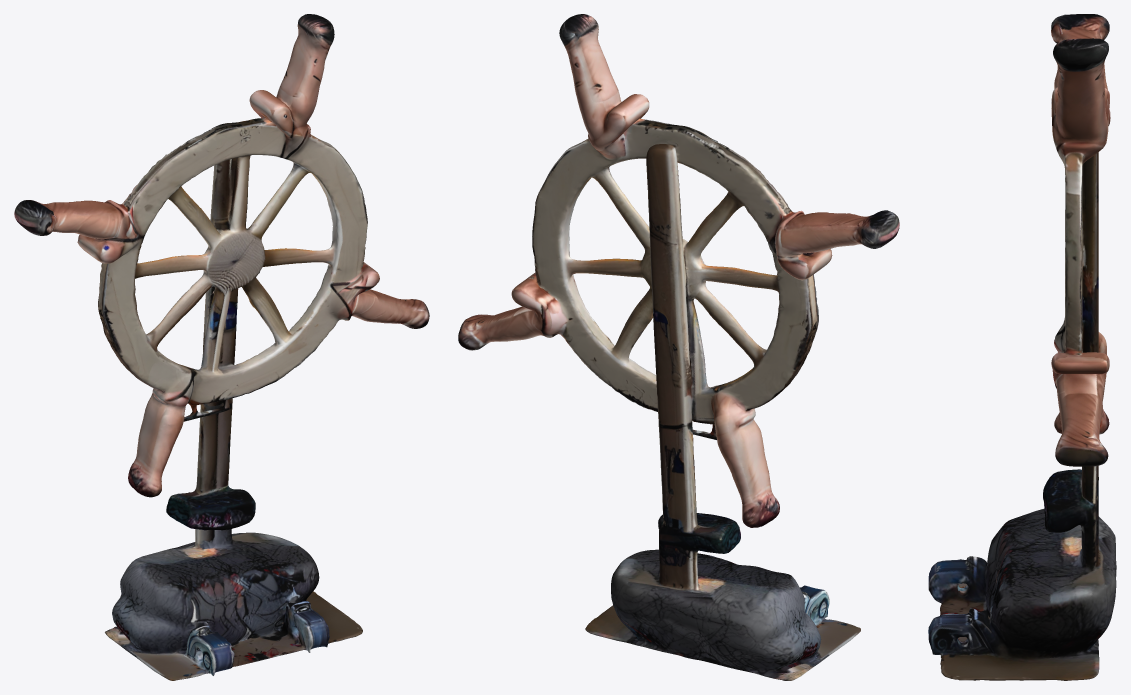
3 views of the same model, side by side, from view 1: azimuth 30°, elevation 25°; view 2: azimuth 150°, elevation 25°; view 3: azimuth 270°, elevation 25° (orthographic). The views are drawn at different scales.
Parts seen in each view (by area): view 1: geometry_0; view 2: geometry_0; view 3: geometry_0.
Boxes of the visible parts, x1,y1,x2,y2 form: geometry_0: [14, 14, 429, 680]; geometry_0: [458, 14, 899, 680]; geometry_0: [928, 14, 1116, 680].
Size of the model in its own units: 141 by 190 by 50.
1 material, 1 textured.
